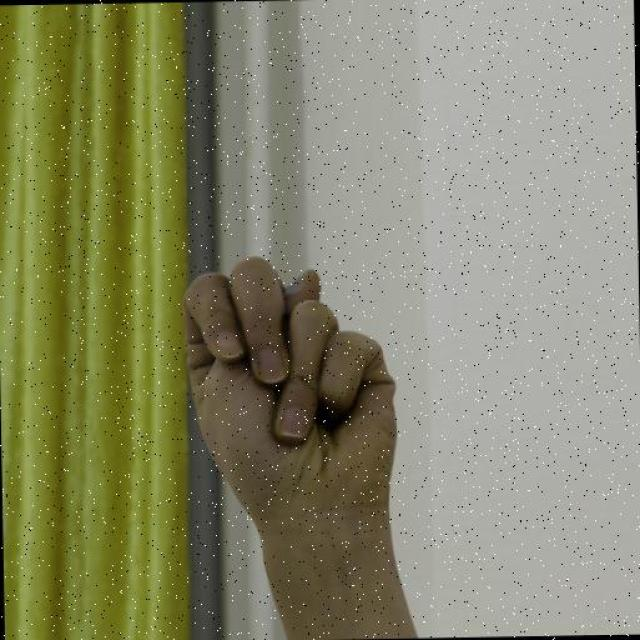N: (175, 249, 406, 522)
